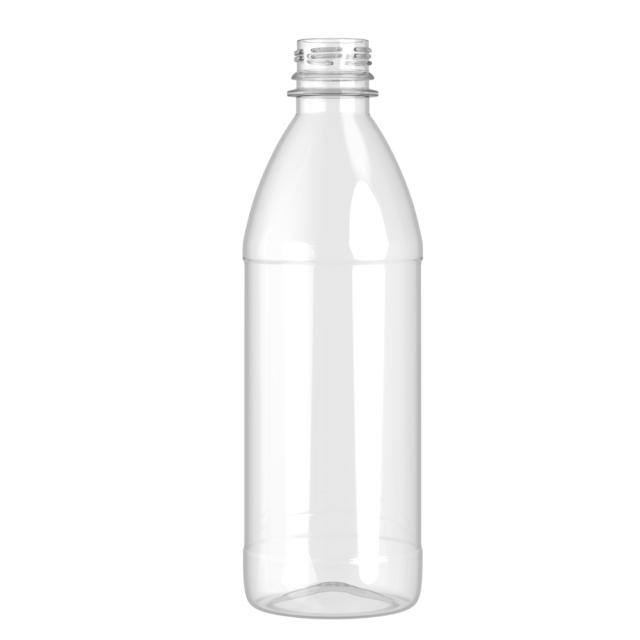recyclable: (216, 22, 454, 630)
